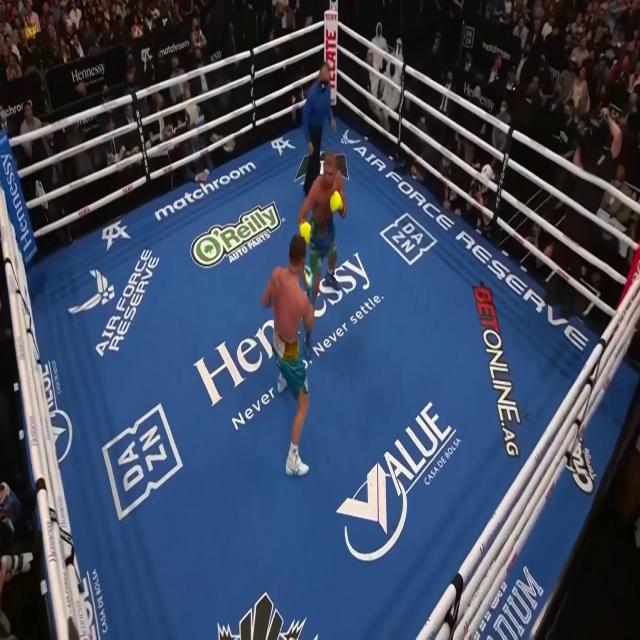boxer_1: (311, 153, 341, 225)
boxer_2: (271, 233, 306, 344)
gloves_1: (330, 191, 344, 217), (300, 221, 311, 245)
gloves_2: (301, 265, 316, 303)
